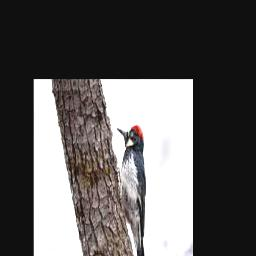Woodpecker: (116, 124, 146, 256)
